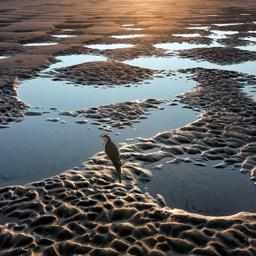Cuckoo: (98, 134, 123, 184)
